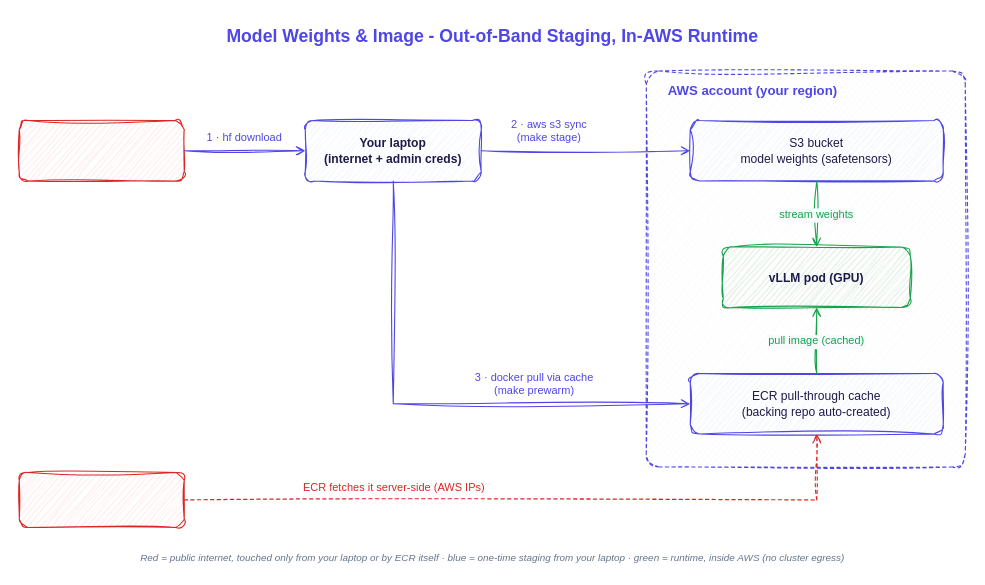
This 985x585 diagram has some shape labels left out. Each missing label, with the centre of its shape:
ECR Public (vLLM DLC, no auth): (x=101, y=499)
Hugging Face Hub: (x=101, y=150)
